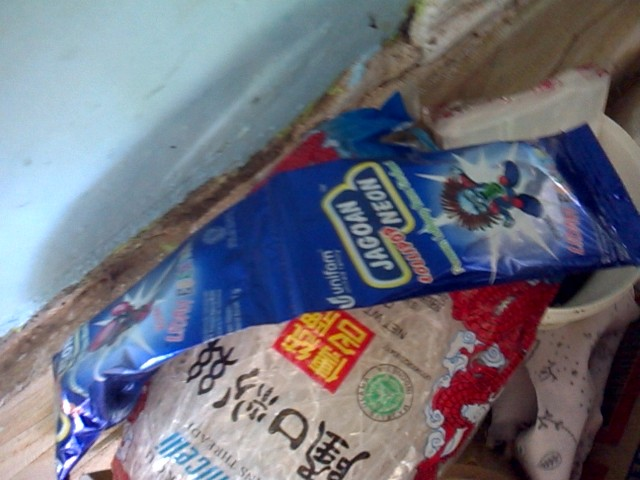jagoan neon: (258, 121, 640, 324), (51, 193, 280, 477)
